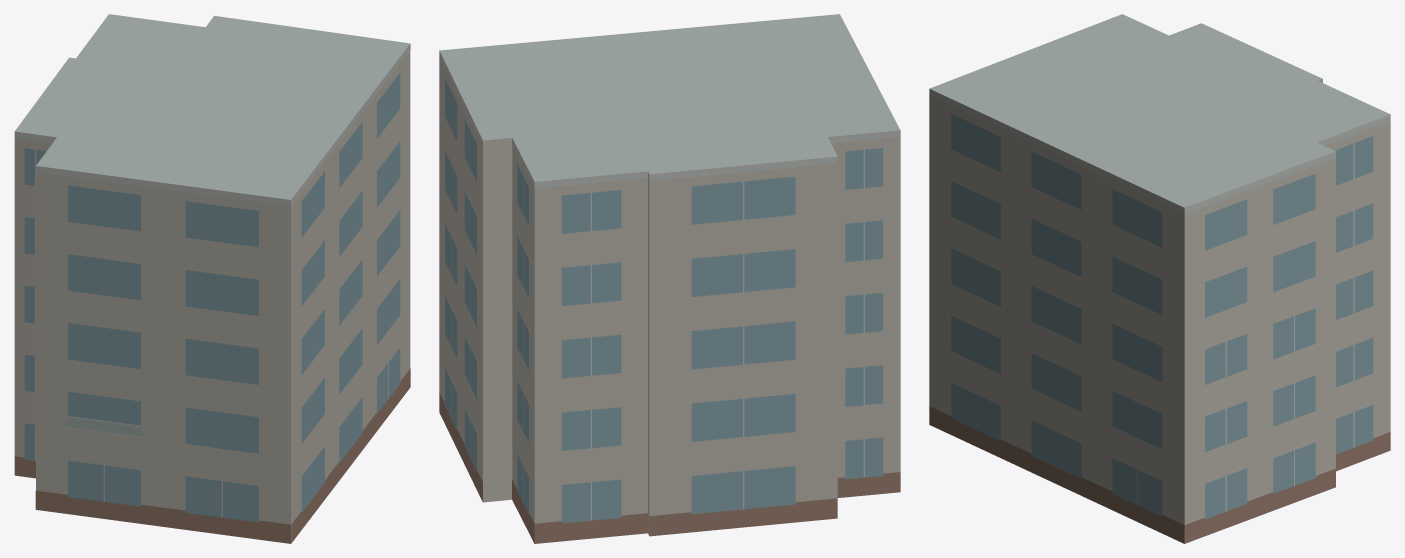
The model's file is survey-upis-32686895.glb.
3 views of the same model, side by side, from view 1: azimuth 30°, elevation 25°; view 2: azimuth 150°, elevation 25°; view 3: azimuth 270°, elevation 25° (orthographic). The views are drawn at different scales.
Parts seen in each view (by area): view 1: survey-upis-32686895.tmp; view 2: survey-upis-32686895.tmp; view 3: survey-upis-32686895.tmp.
Boxes of the visible parts, box(x1,y1,x2,y2) form: survey-upis-32686895.tmp: box(14, 14, 410, 543); survey-upis-32686895.tmp: box(439, 14, 900, 543); survey-upis-32686895.tmp: box(929, 14, 1390, 543).
Bounding box in the file's own units: 16.08 × 13 × 16.18.
